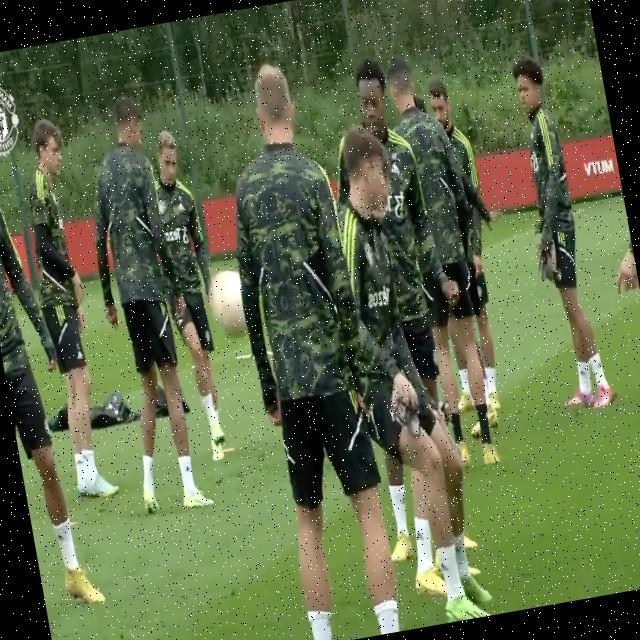Adidas: (387, 159, 400, 177), (55, 528, 66, 545), (414, 526, 424, 542)
